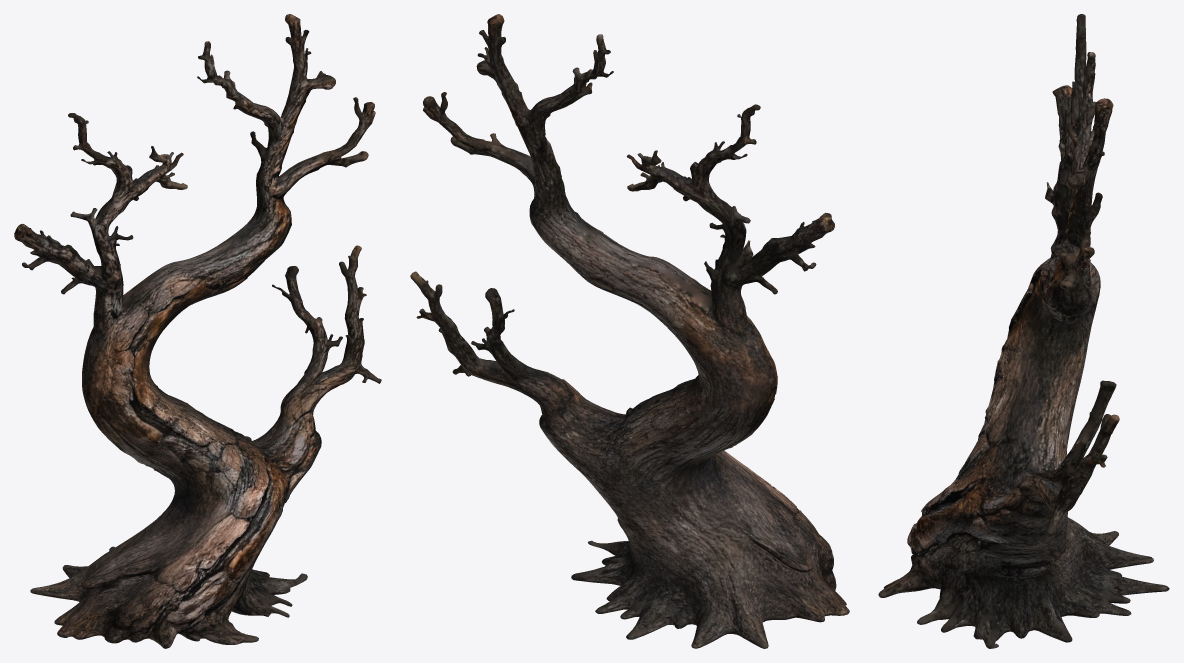
Rendered from arvore.glb.
3 renders of one model, left to right at view 1: azimuth 30°, elevation 25°; view 2: azimuth 150°, elevation 25°; view 3: azimuth 270°, elevation 25°, orthographic. The views are drawn at different scales.
Parts seen in each view (by area): view 1: material; view 2: material; view 3: material.
Part boxes in pixels (x1,y1,x2,y2): material: (14,14,381,648); material: (410,14,849,648); material: (878,14,1169,648).
Bounding box in the file's own units: 0.7357 × 0.9916 × 0.4569.
1 material, 1 textured.
